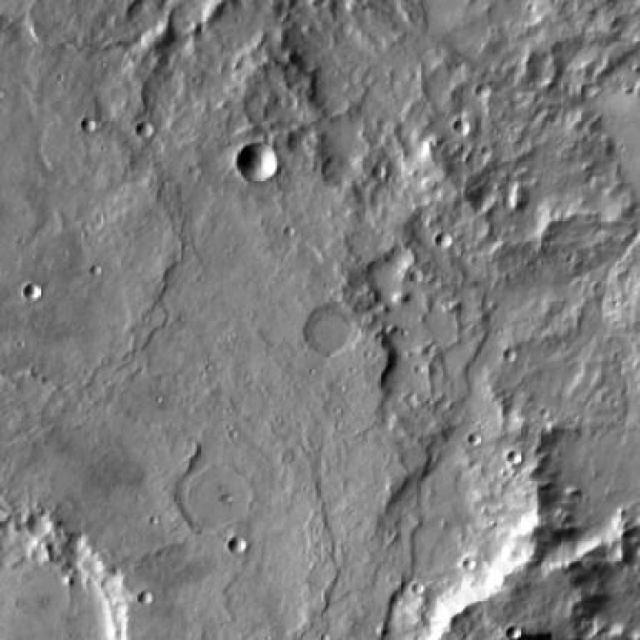crater: (382, 454, 542, 606), (3, 507, 129, 640), (177, 460, 258, 537), (303, 309, 357, 360), (233, 142, 276, 182), (22, 512, 48, 536), (227, 538, 245, 554), (22, 284, 38, 301), (437, 230, 454, 245)
